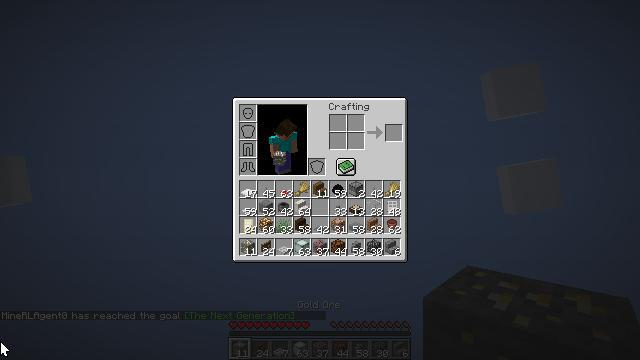cursor: (0, 341, 10, 357)
